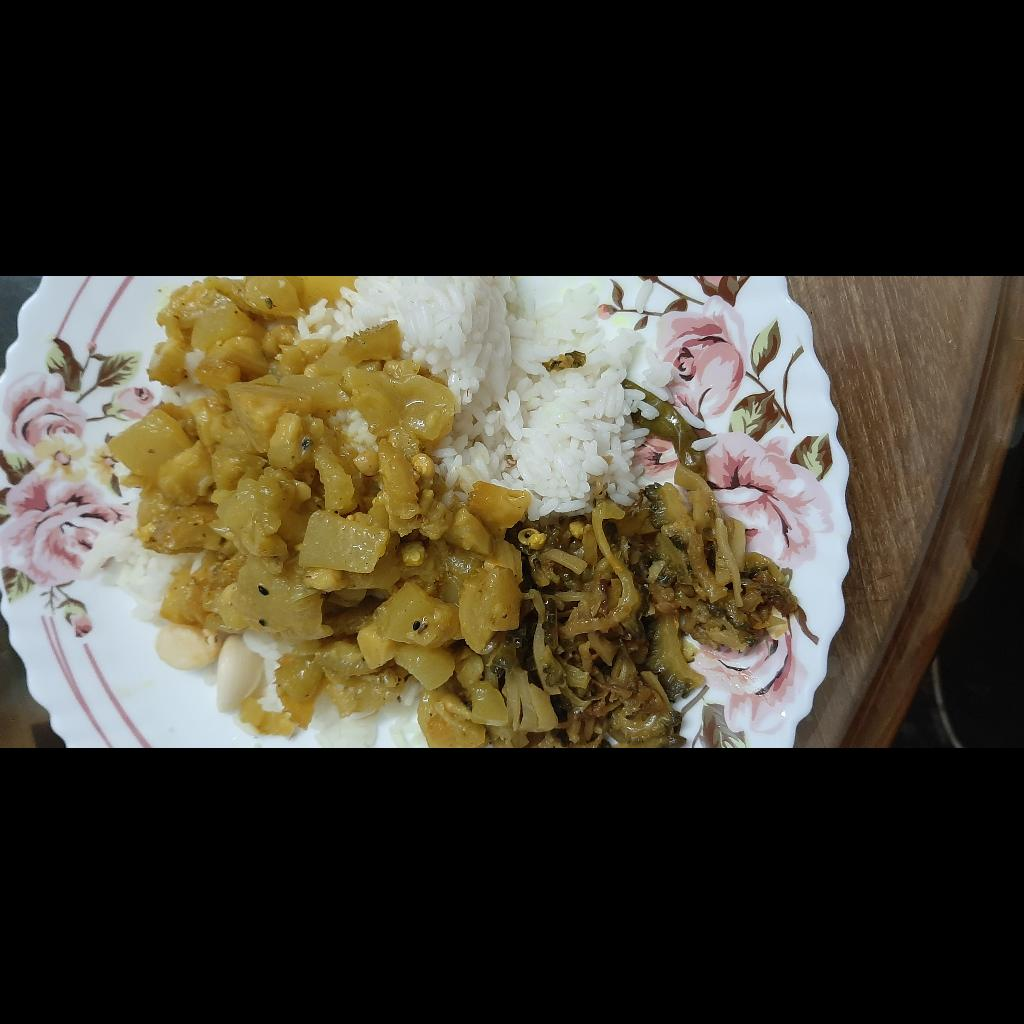korola-vaji: (1, 767, 288, 1024)
potol: (0, 373, 472, 830)
rice: (229, 575, 472, 941), (118, 349, 253, 475), (0, 581, 72, 704), (31, 514, 118, 568), (302, 603, 339, 653)
